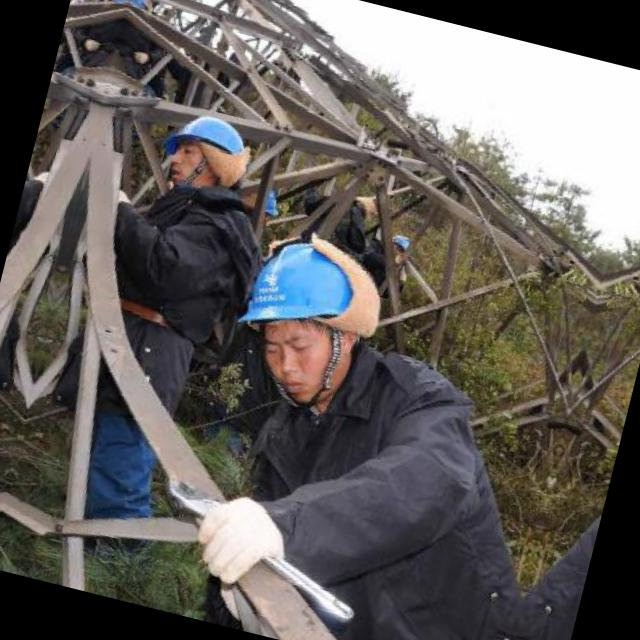helmet: (216, 218, 385, 412), (152, 98, 255, 202)
